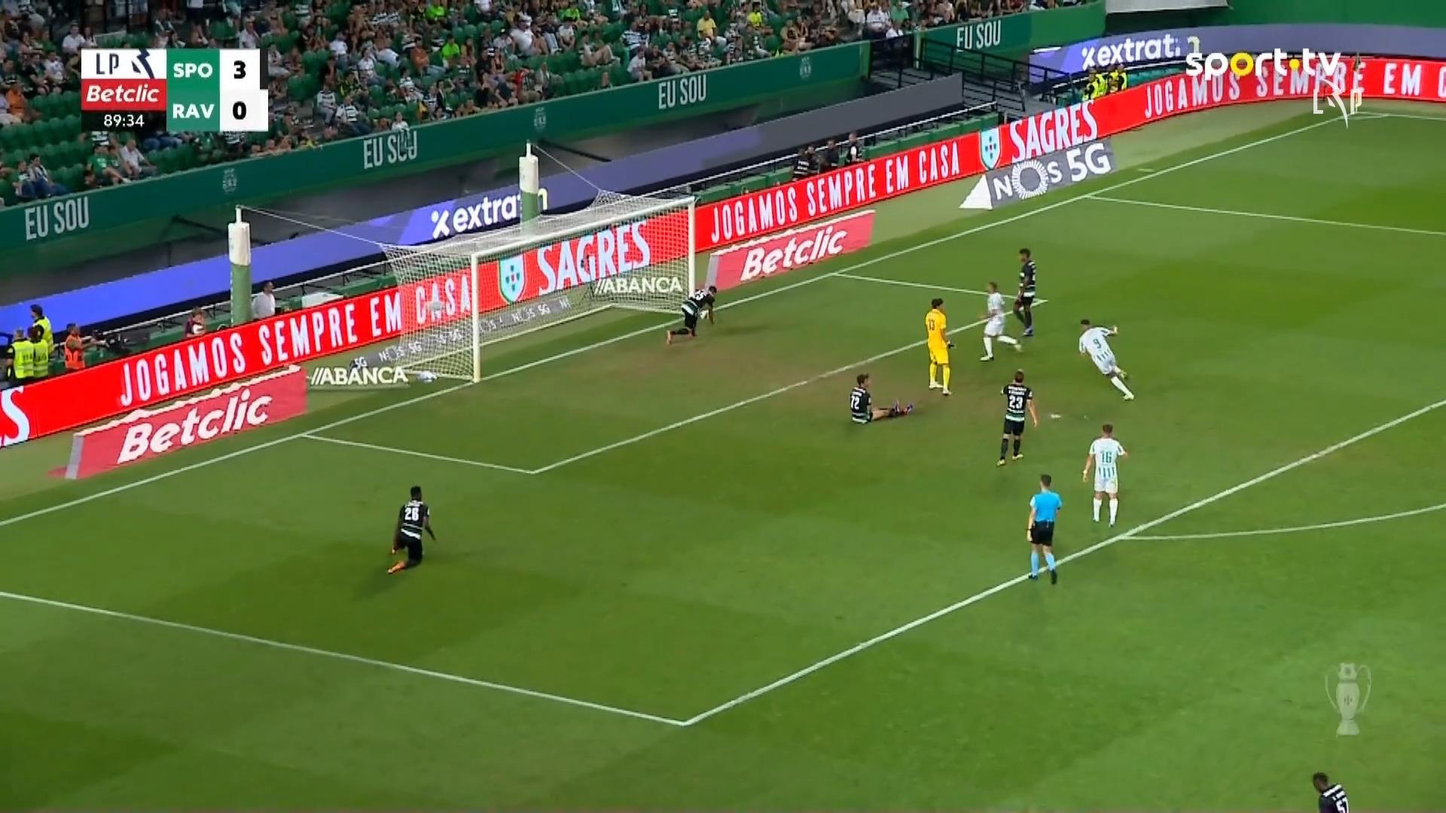goalkeeper: (924, 297, 956, 396)
player: (1081, 422, 1127, 527), (1077, 317, 1134, 400), (386, 485, 436, 574), (995, 368, 1038, 466), (978, 280, 1023, 361), (848, 372, 911, 425), (664, 284, 717, 344), (1011, 247, 1038, 336)
referee: (1024, 473, 1061, 584), (1311, 771, 1348, 811)
